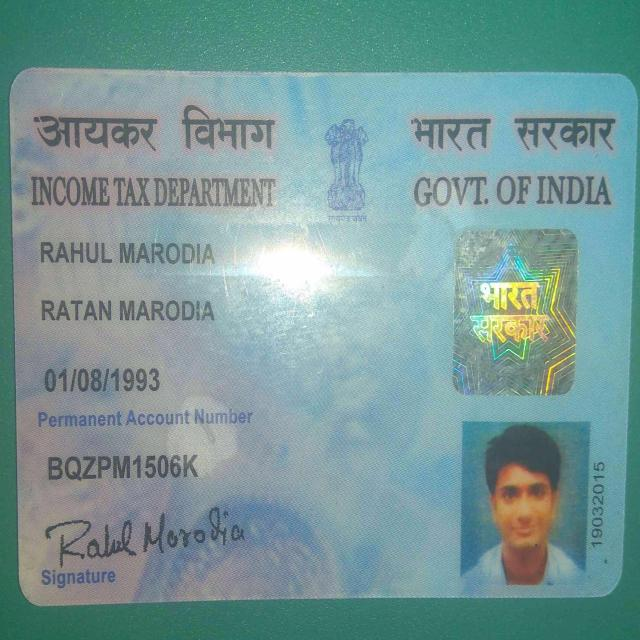pan_card: (16, 79, 635, 601)
